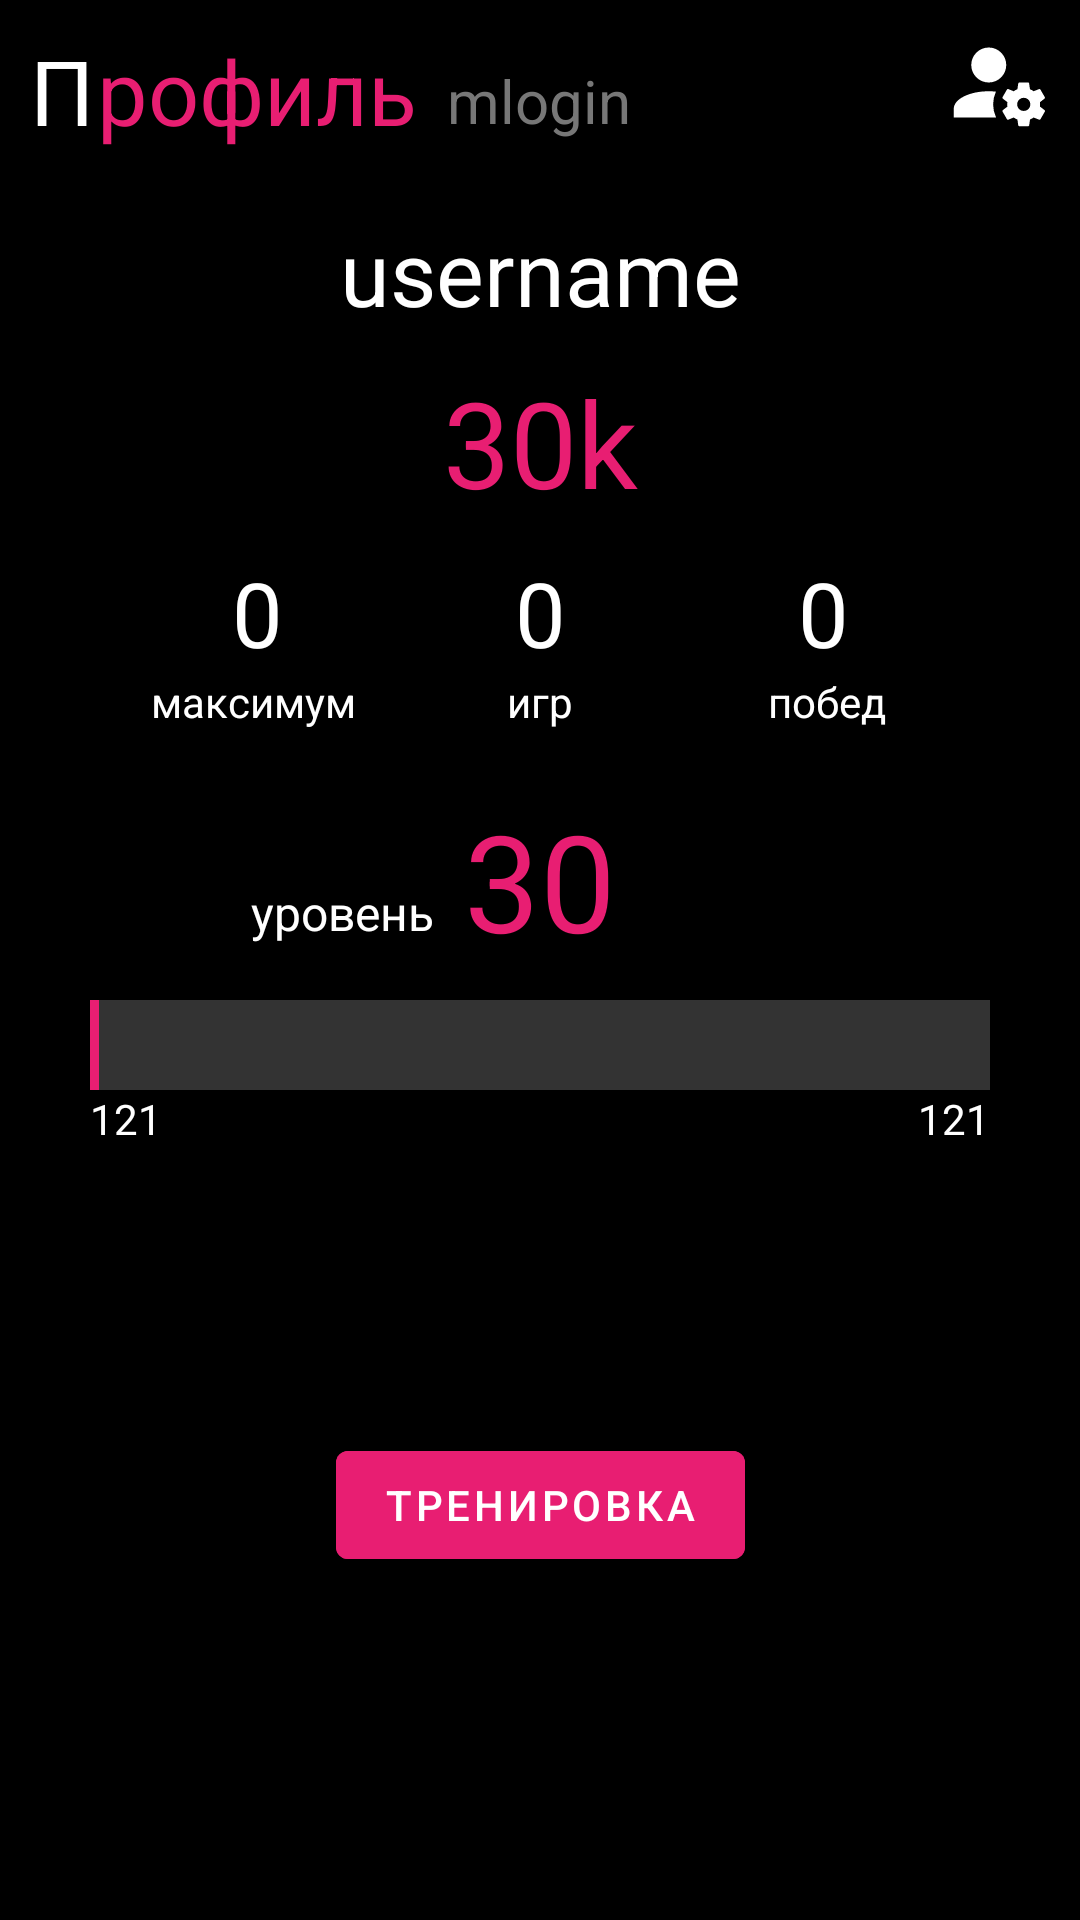

Where to tap for icons on this 1080×1920 app screen, as point (x, y):
setting: point (999, 87)
